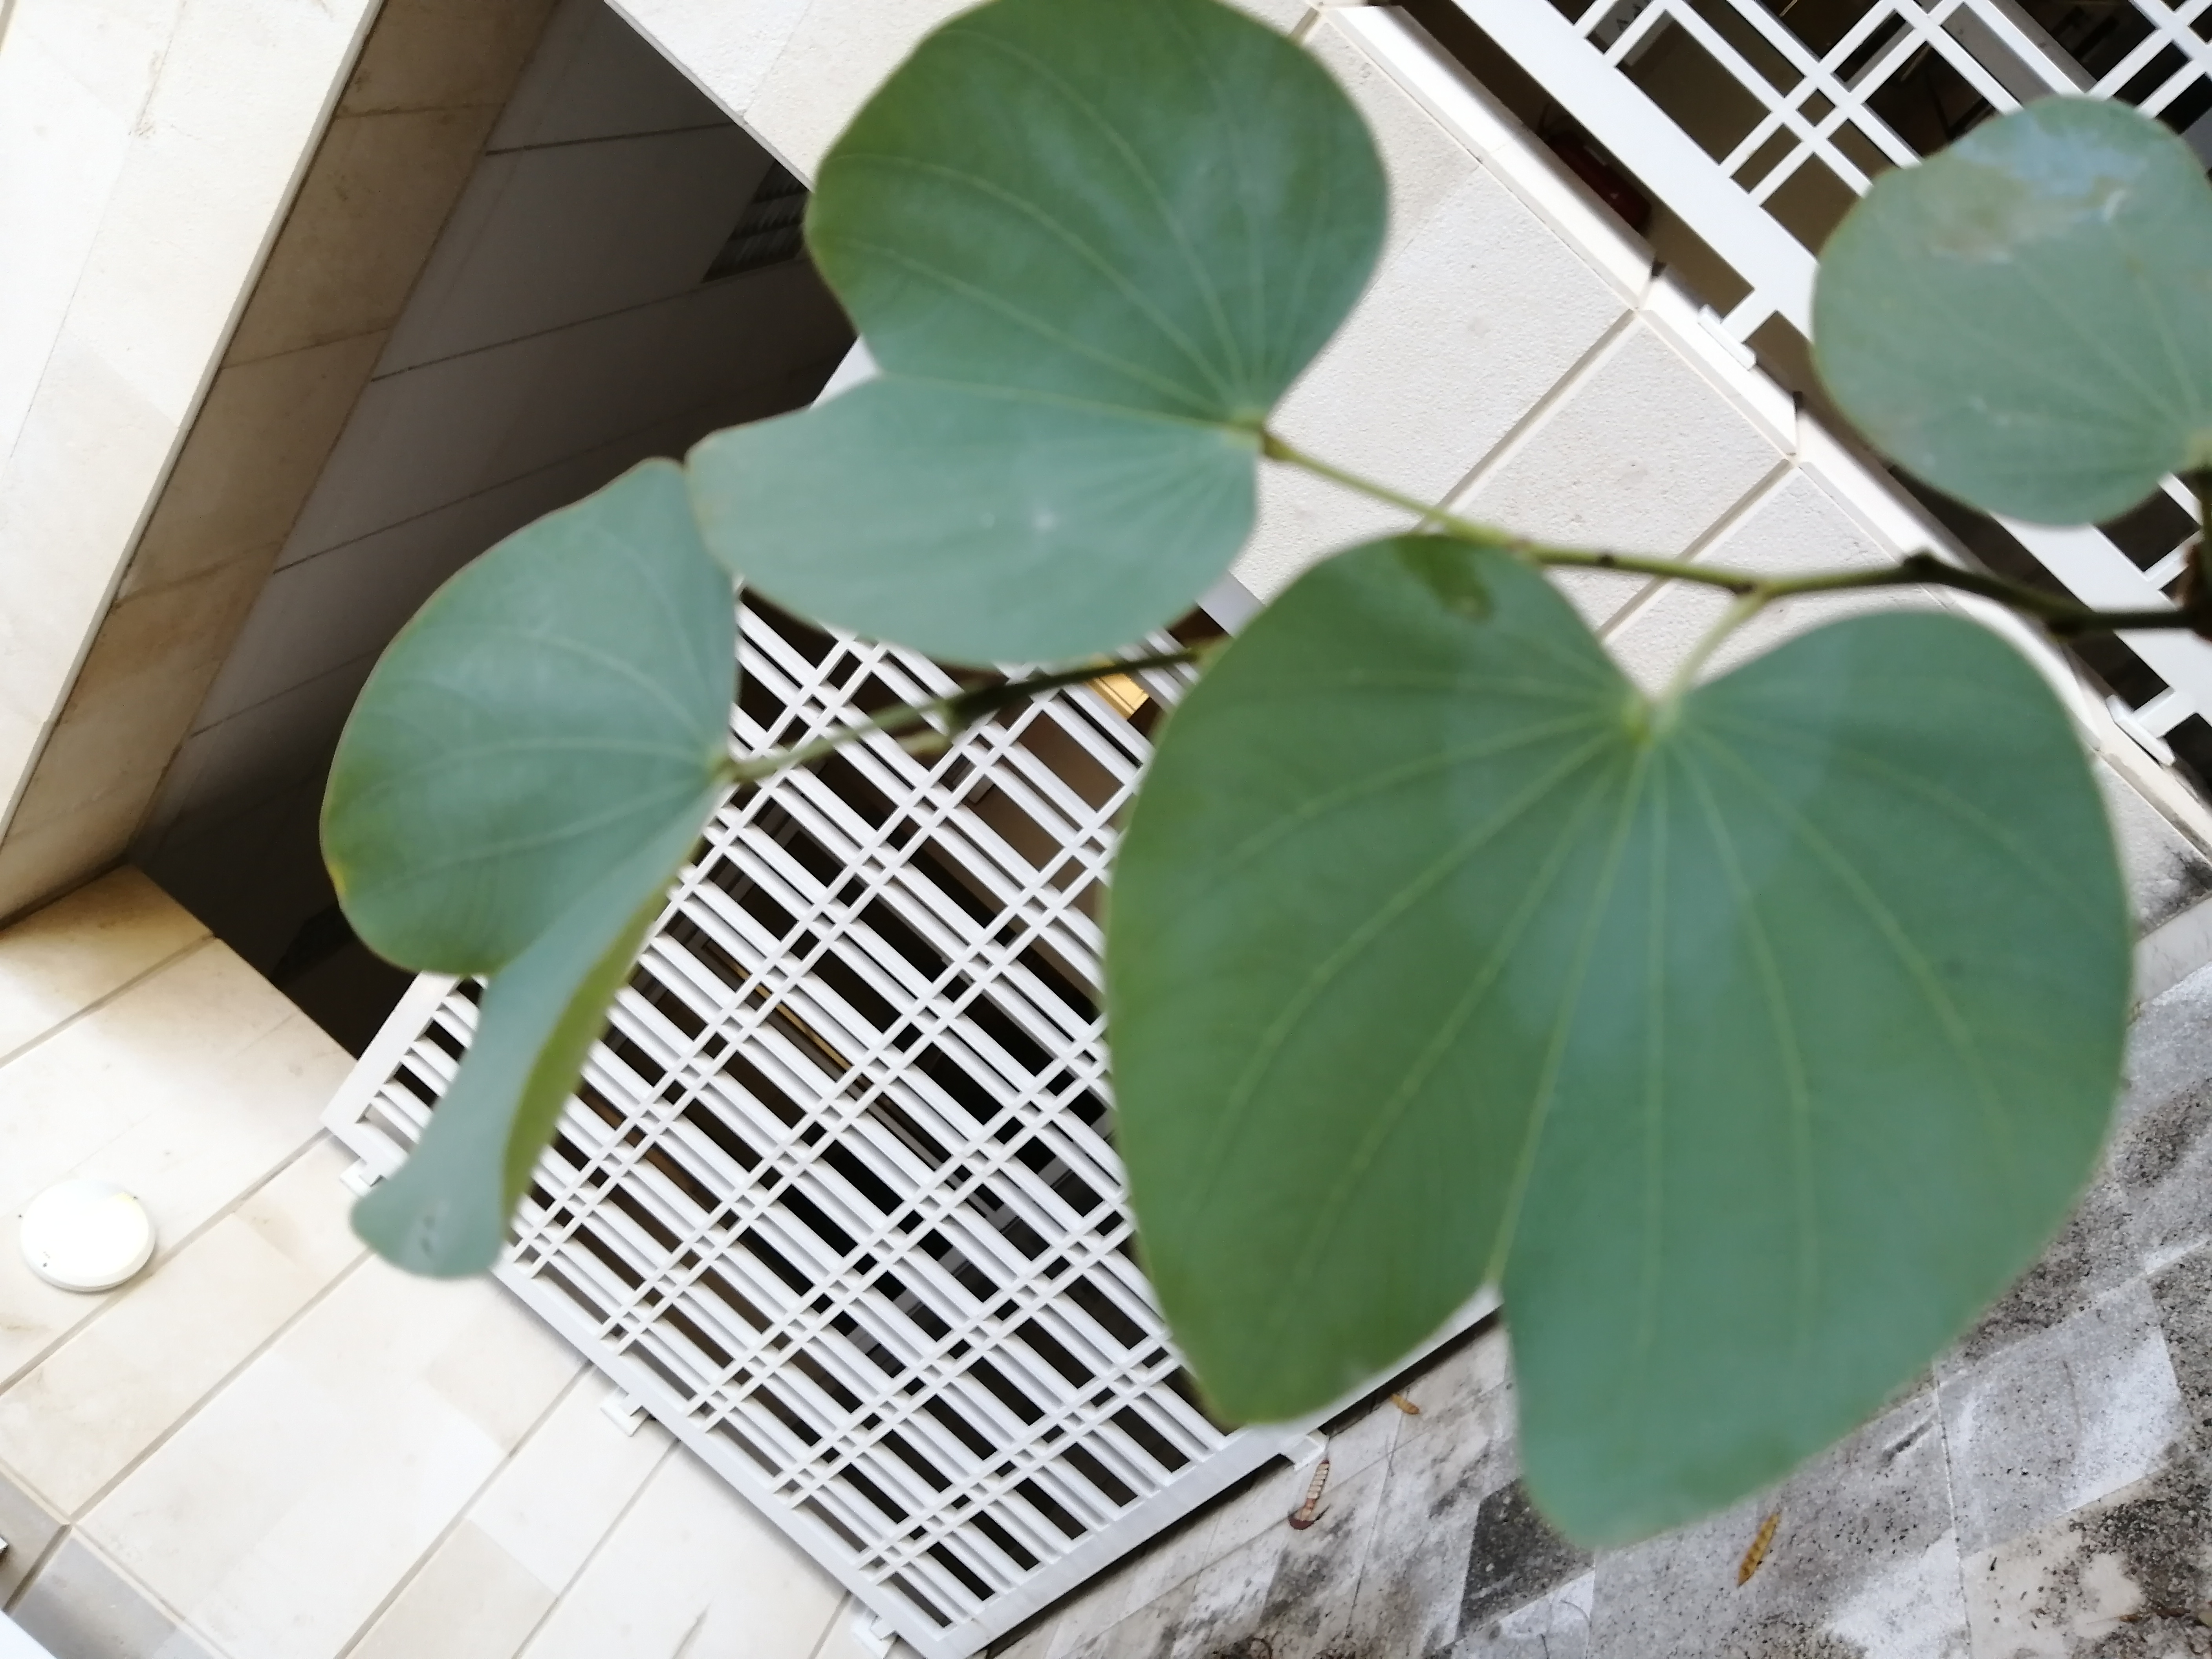healthy: (1150, 641, 2099, 1481), (681, 35, 1416, 669)
